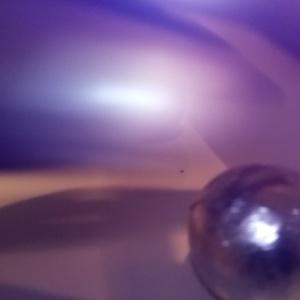alive_ball: (188, 165, 300, 300)
